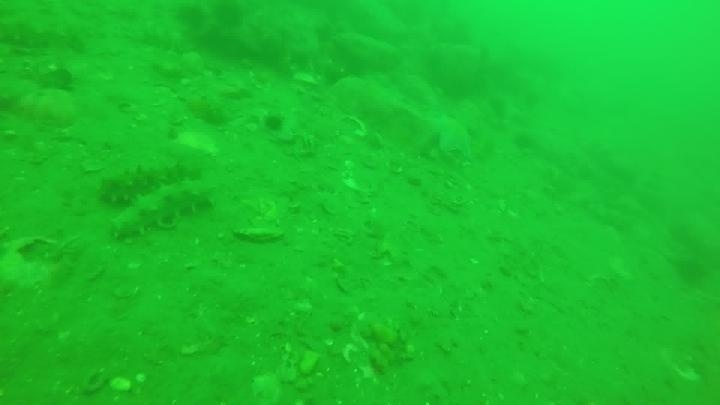holothurian: (109, 180, 216, 241), (96, 156, 202, 207)
starfish: (423, 110, 476, 160)
